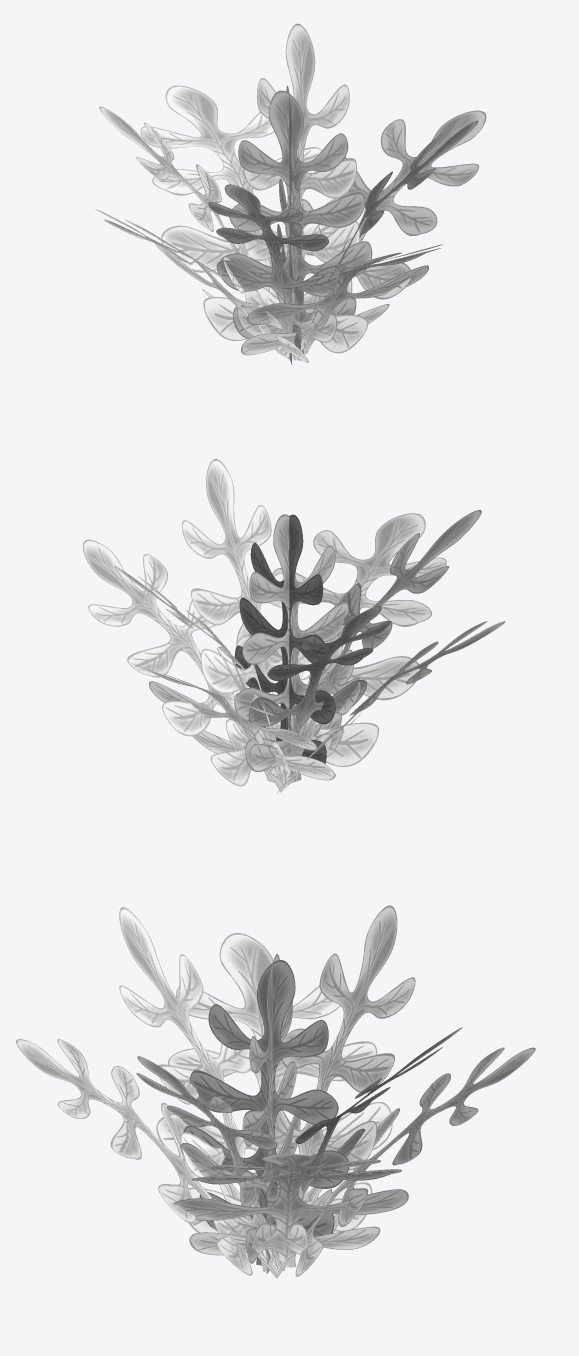
Rendered from Fern.fbx.
The picture shows the model from 3 angles, top to bottom: view 1: azimuth 30°, elevation 25°; view 2: azimuth 150°, elevation 25°; view 3: azimuth 270°, elevation 25°; orthographic projection. The views are drawn at different scales.
Visible parts, largest first — view 1: Plane.003; view 2: Plane.003; view 3: Plane.003.
Part boxes in pixels (x1=…): Plane.003: x1=95, y1=23, x2=486, y2=364; Plane.003: x1=83, y1=459, x2=504, y2=792; Plane.003: x1=16, y1=905, x2=535, y2=1278.
Bounding box in the file's own units: 325 × 200 × 321.
